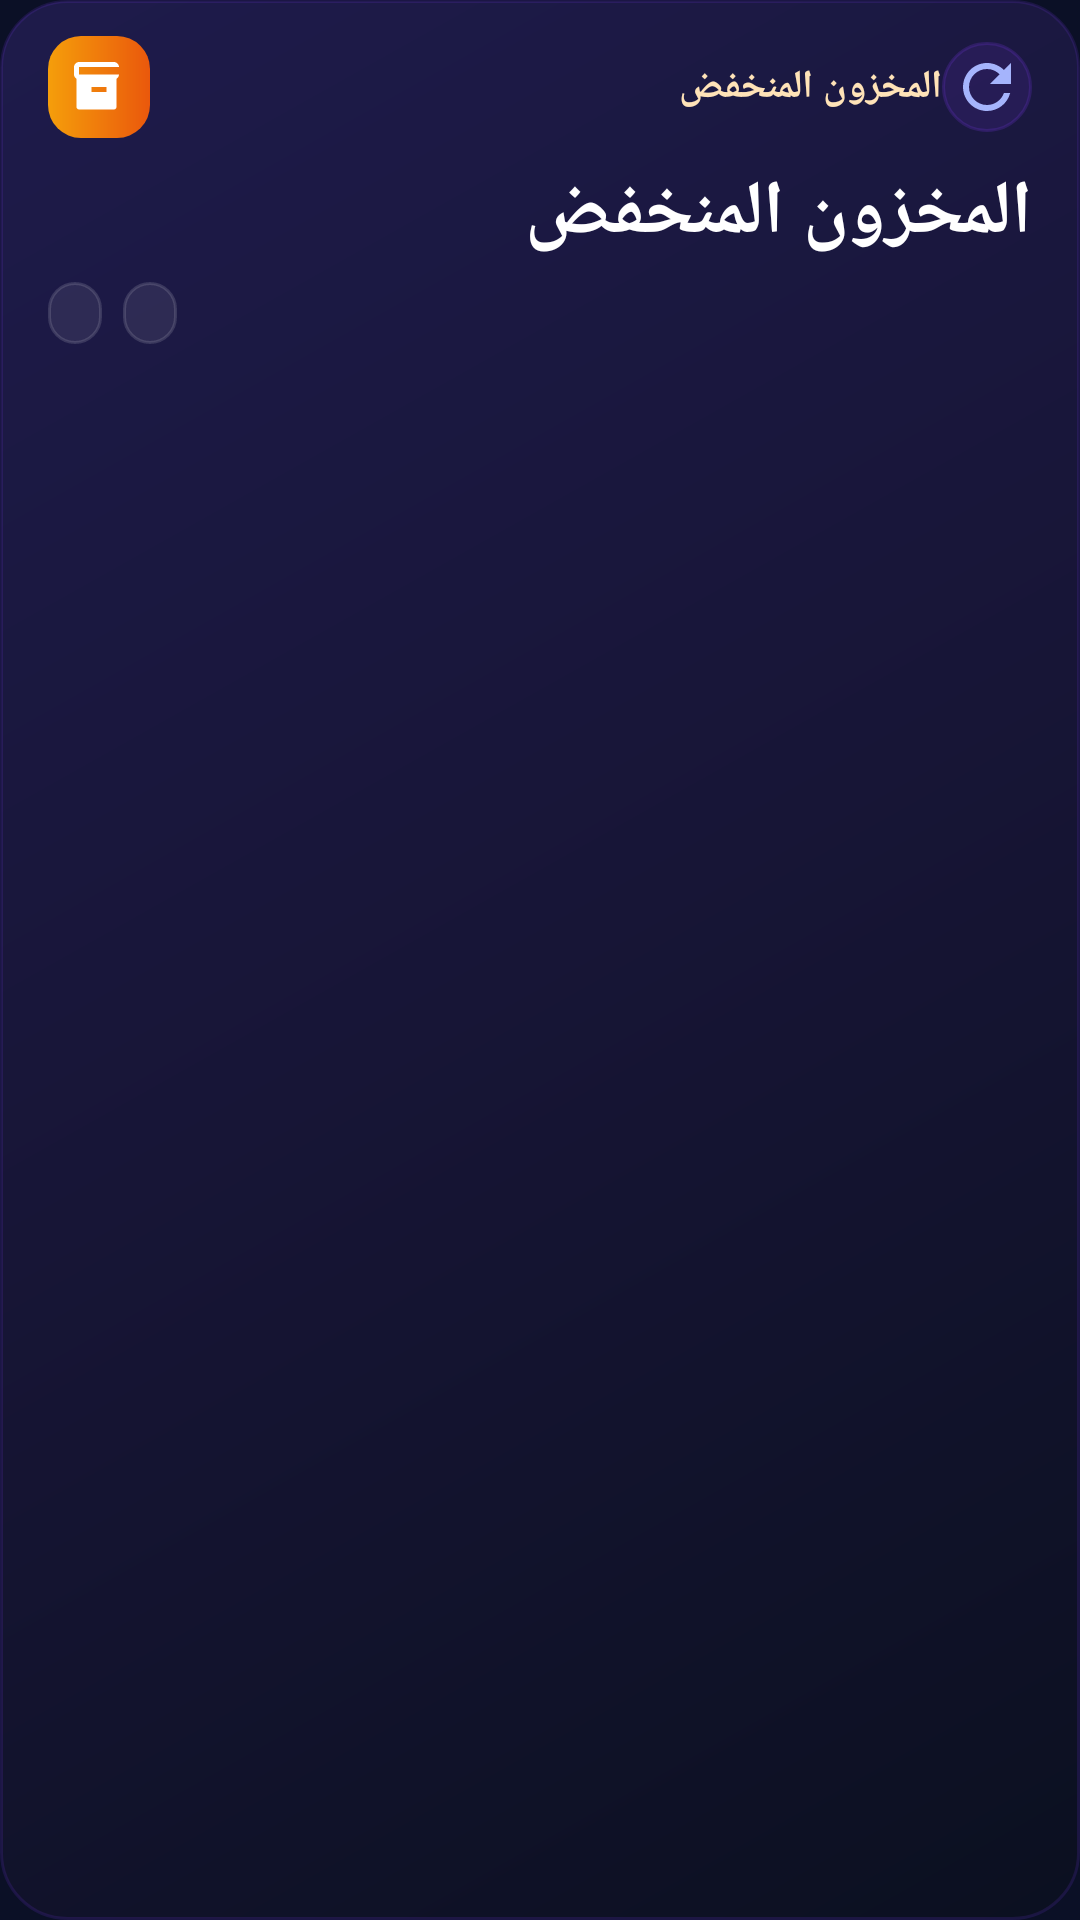

Where icons sit on this 1080px×1920px app screen, as (x1, y1, x2, y2):
widget refresh: (942, 42, 1032, 132)
